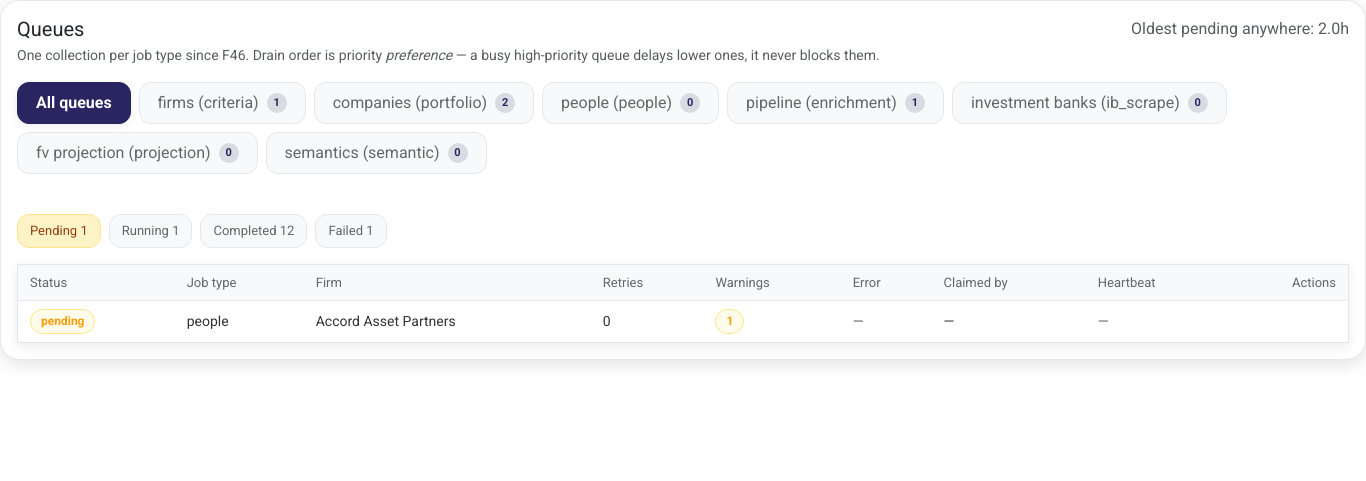
Test: QueuesPanel job list › renders failed jobs with the op and a permanent marker
Click the tab "companies (portfolio) 2".
click(424, 103)  # box [314,82,534,124]
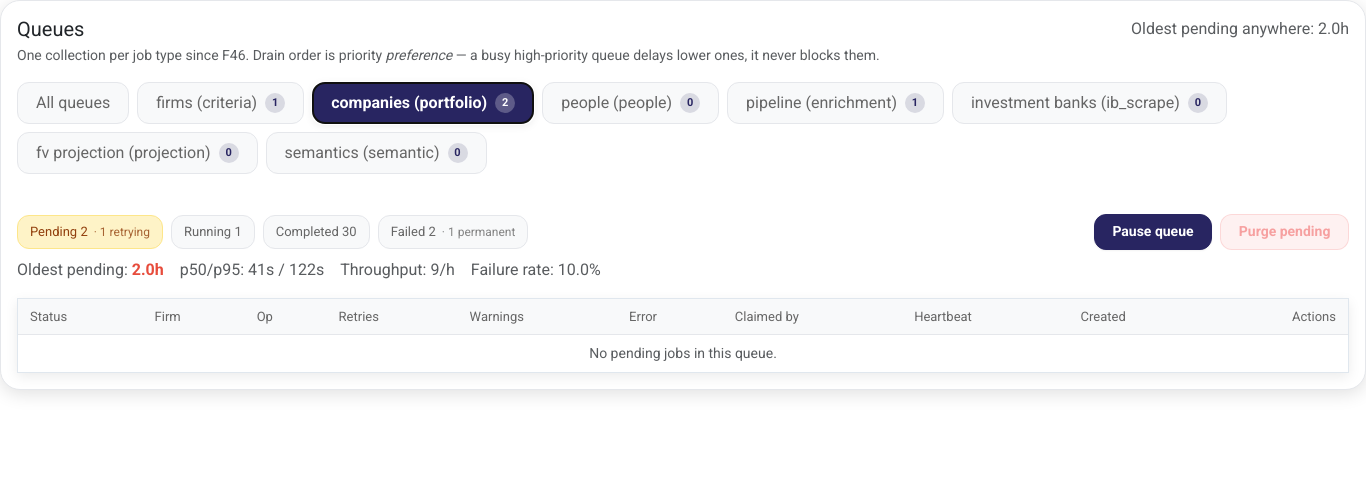
Click the button "Failed 2 · 1 permanent".
click(453, 232)  # box [378,215,528,249]
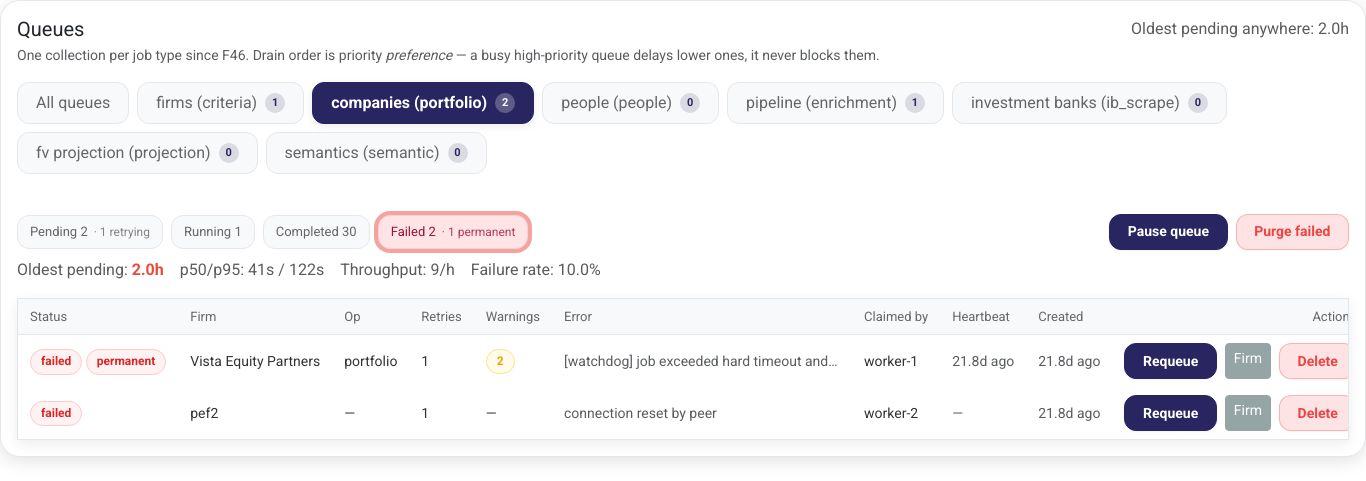
expect the button "[watchdog]" is shown: met, box [552,335,852,388]
expect the text "portfolio" is shown: met, box [332,335,409,388]
expect the text "permanent" is shown: met, box [86,349,166,375]
